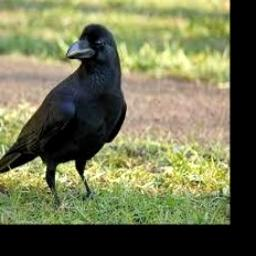Crow: (0, 23, 126, 207)
